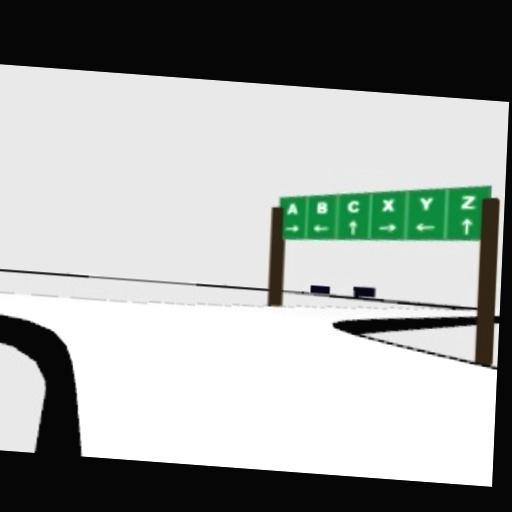A: (286, 200, 300, 216)
B: (315, 199, 331, 218)
C: (345, 197, 361, 214)
Left: (415, 219, 436, 233), (312, 219, 330, 234)
Right: (377, 220, 397, 233), (284, 220, 300, 234)
Straight: (461, 215, 474, 235), (348, 218, 358, 236)
X: (381, 195, 398, 214)
Y: (418, 195, 435, 211)
Z: (461, 193, 476, 209)
